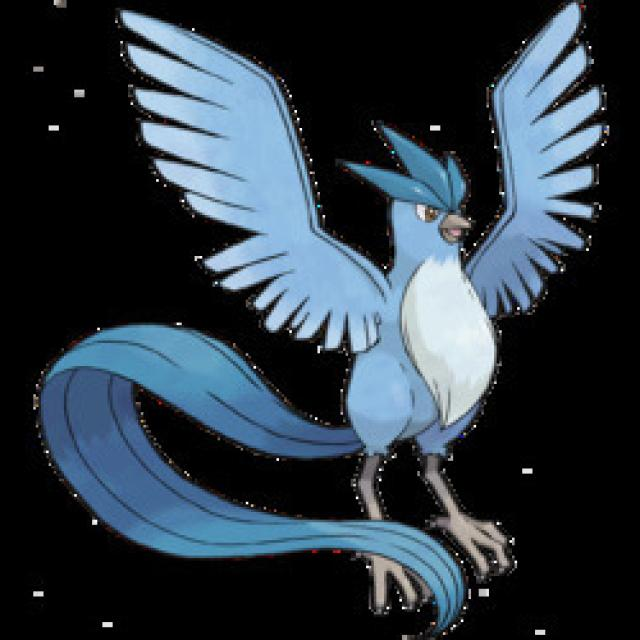Articuno: (214, 127, 572, 558)
